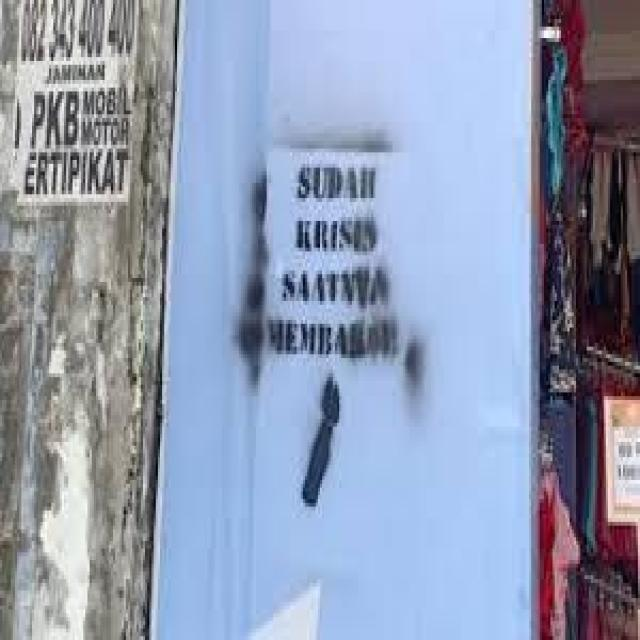nonspitting: (239, 133, 424, 506), (15, 0, 134, 195)
